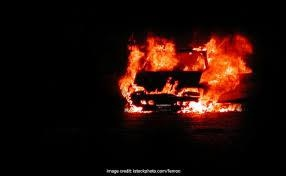fire: (116, 28, 253, 118)
